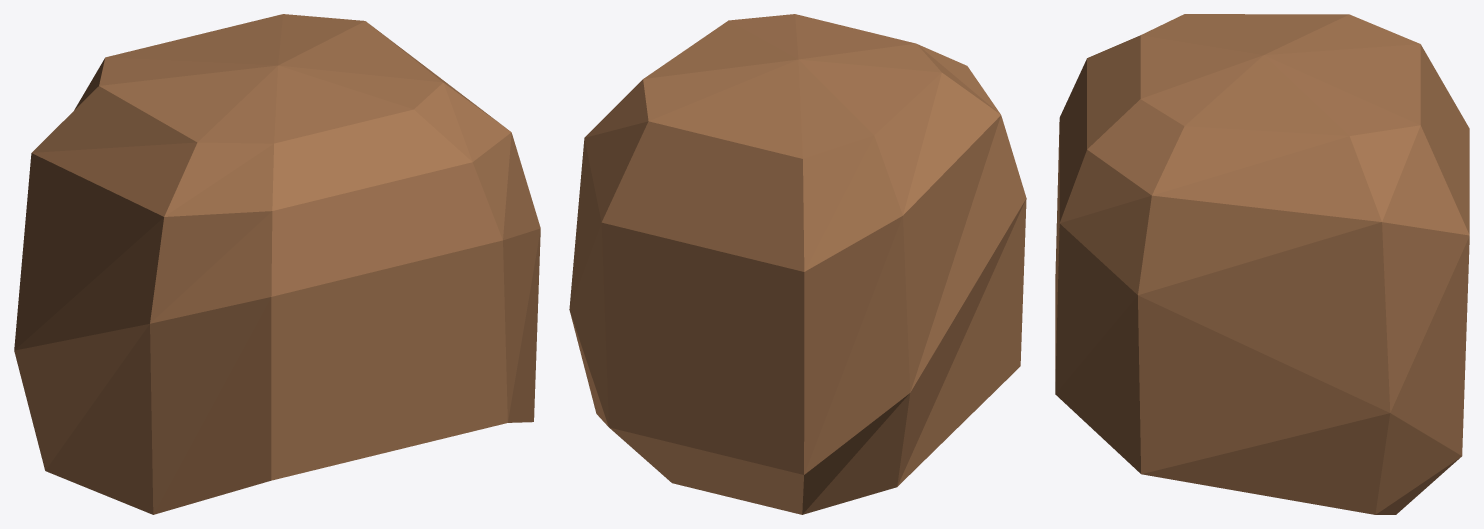
Rendered from scalp-cap-f.high.b6632a9f.glb.
3 renders of one model, left to right at view 1: azimuth 30°, elevation 25°; view 2: azimuth 150°, elevation 25°; view 3: azimuth 270°, elevation 25°, orthographic. The views are drawn at different scales.
Visible parts, largest first — view 1: scalp-cap-f; view 2: scalp-cap-f; view 3: scalp-cap-f.
Boxes of the visible parts, x1=… form: scalp-cap-f: x1=14, y1=14, x2=540, y2=514; scalp-cap-f: x1=569, y1=14, x2=1026, y2=514; scalp-cap-f: x1=1055, y1=14, x2=1469, y2=514.
Size of the model in its own units: 0.1725 by 0.1909 by 0.1686.
